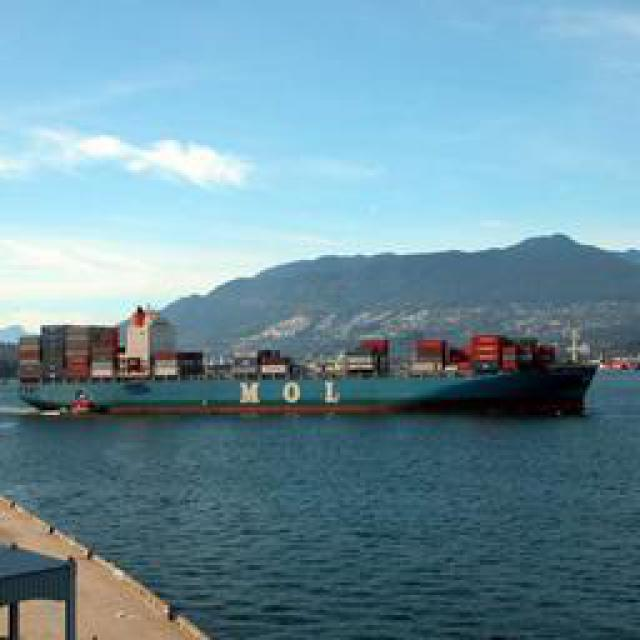Ship: (20, 316, 598, 416)
